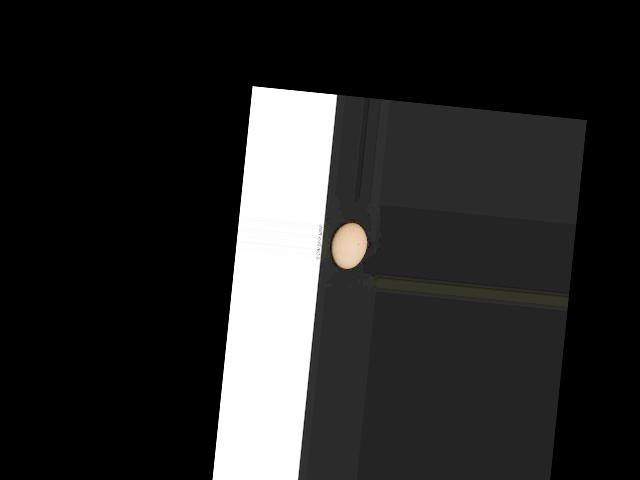egg: (329, 221, 368, 270)
